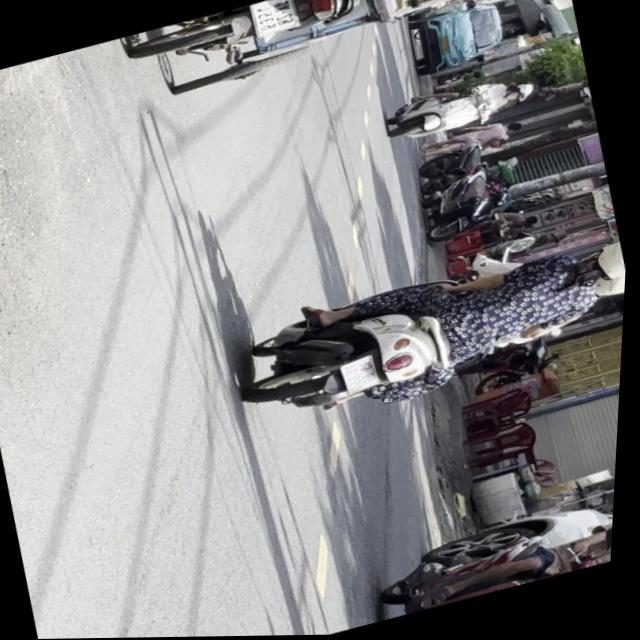helmet: (579, 243, 630, 289), (591, 268, 629, 304), (505, 83, 536, 104)
licenseplate: (228, 221, 631, 442), (360, 492, 620, 626), (381, 69, 541, 149)
nohelmet: (248, 0, 300, 38), (341, 355, 386, 396)
